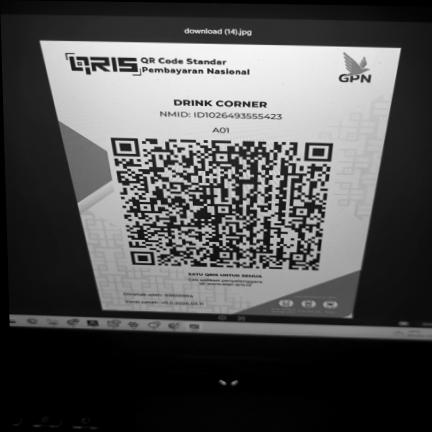Cara Pakai QRIS: (265, 291, 356, 317)
Cek Aplikasi Penyelenggara: (184, 277, 266, 288)
Dicetak Oleh: (120, 291, 196, 298)
Logo GPN: (327, 50, 381, 90)
Logo dan deskripsi QRIS: (55, 47, 265, 82)
Nama Merchant: (167, 97, 276, 110)
National Merchant ID: (155, 109, 290, 121)
QR Code: (103, 135, 339, 273)
Slogan: (184, 271, 265, 278)
Terminal ID: (207, 126, 236, 136)
Versi Cetak: (122, 298, 208, 307)
